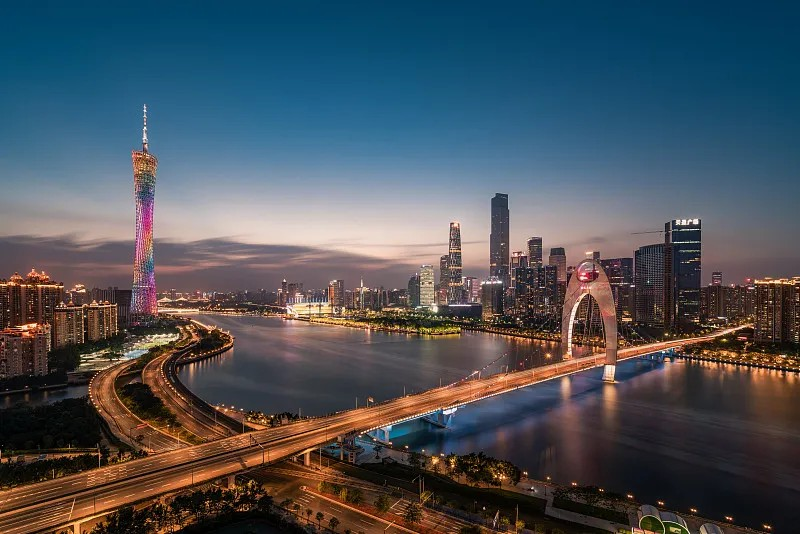Canton: (129, 103, 161, 324)
